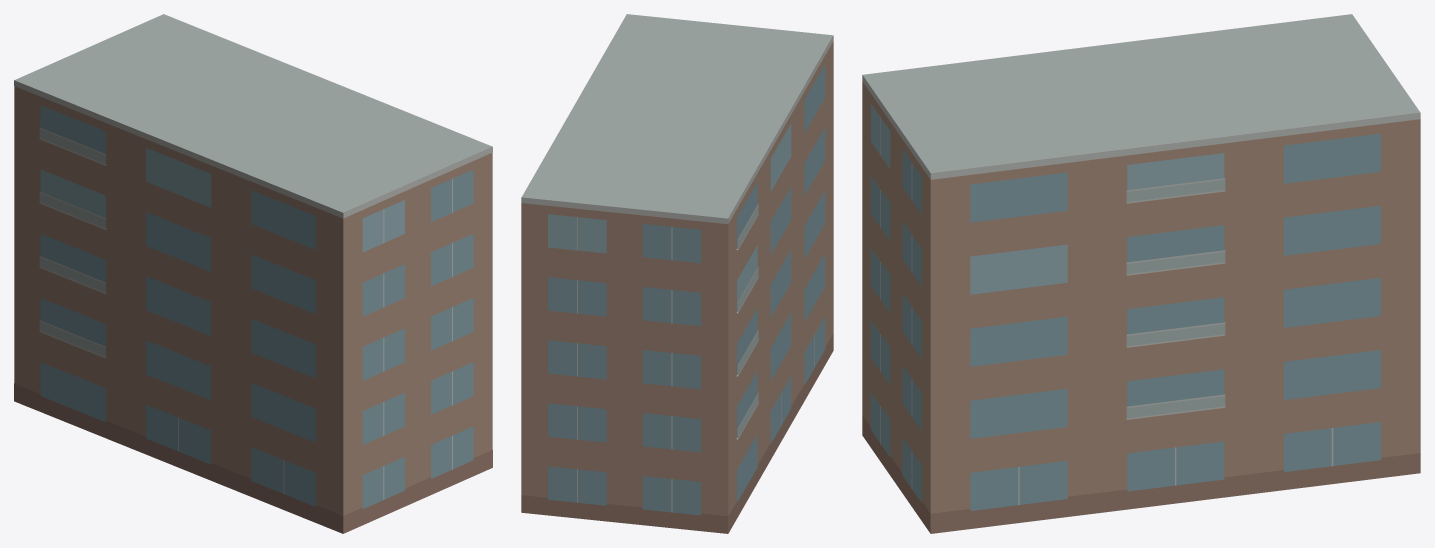
File: survey-upis-32946035.glb
3 renders of one model, left to right at view 1: azimuth 30°, elevation 25°; view 2: azimuth 150°, elevation 25°; view 3: azimuth 270°, elevation 25°, orthographic. The views are drawn at different scales.
Parts seen in each view (by area): view 1: survey-upis-32946035.tmp; view 2: survey-upis-32946035.tmp; view 3: survey-upis-32946035.tmp.
Part boxes in pixels (box(x1,y1,x2,y2)): survey-upis-32946035.tmp: box(14, 14, 492, 533); survey-upis-32946035.tmp: box(521, 14, 833, 533); survey-upis-32946035.tmp: box(862, 14, 1420, 533).
Bounding box in the file's own units: 12.91 × 13.6 × 19.1.
